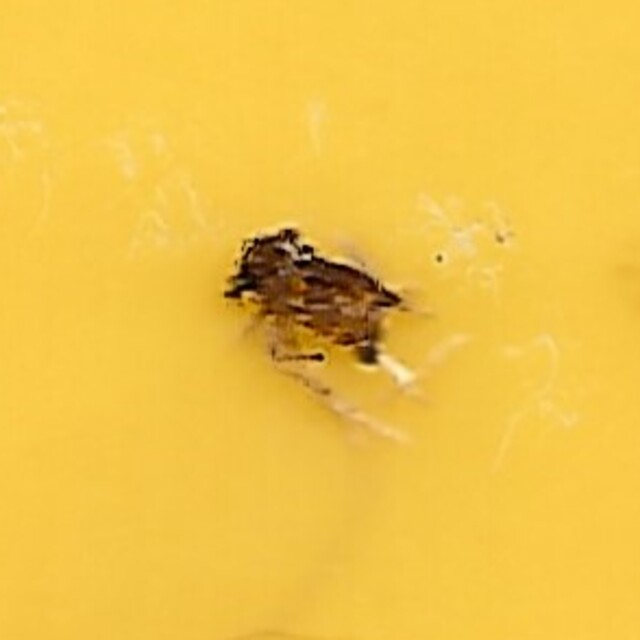Nematocera: (218, 221, 422, 419)
